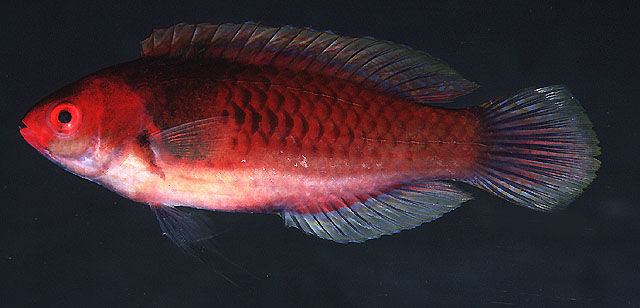fish: (19, 22, 601, 293)
